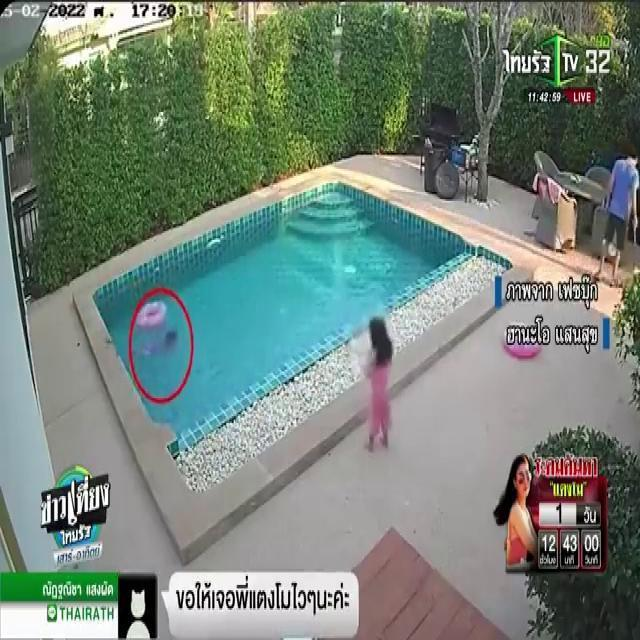Out of Water: (135, 326, 179, 366)
